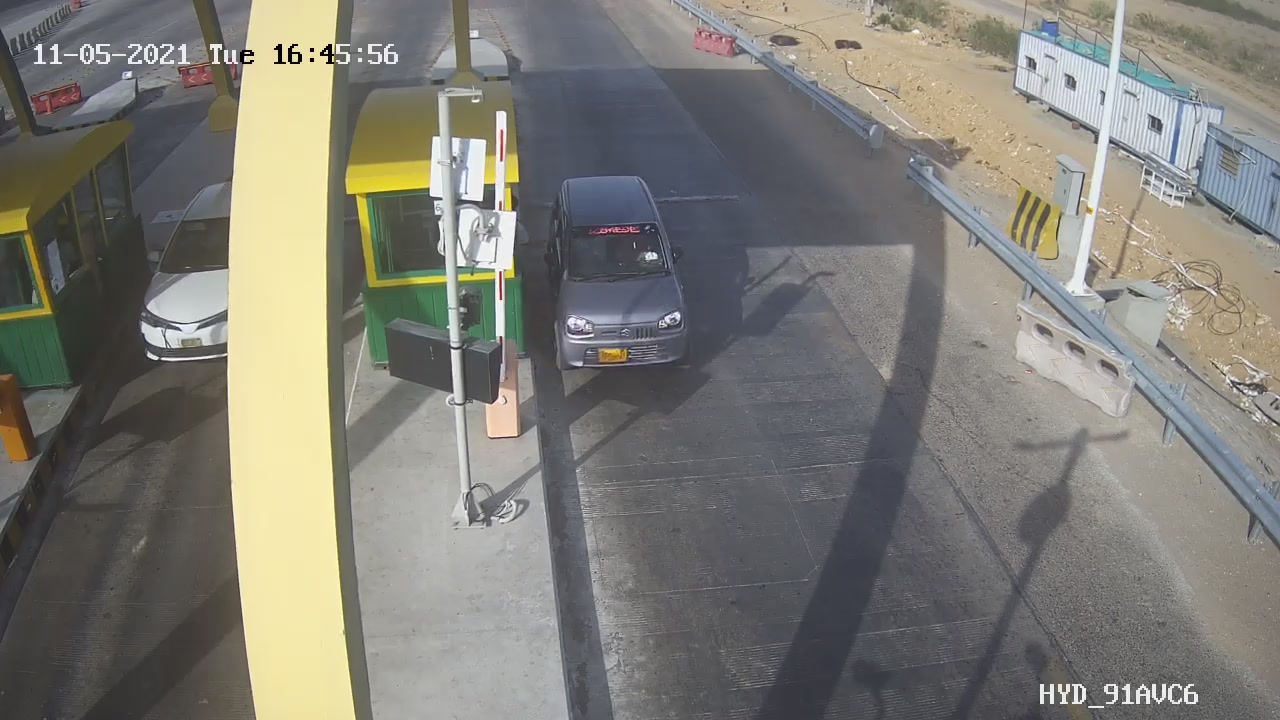F1: (530, 159, 711, 387)
